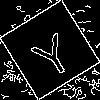Y: (24, 25, 77, 81)
